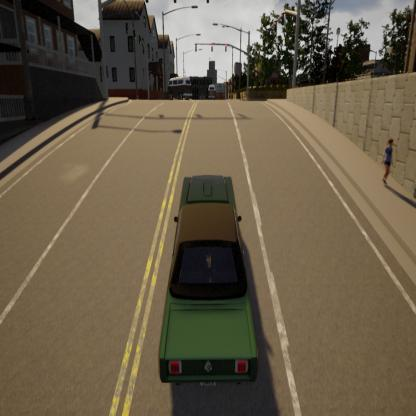Cars: (151, 149, 272, 416), (163, 68, 195, 102), (204, 77, 219, 102)
Pedestrian: (373, 123, 402, 200)
